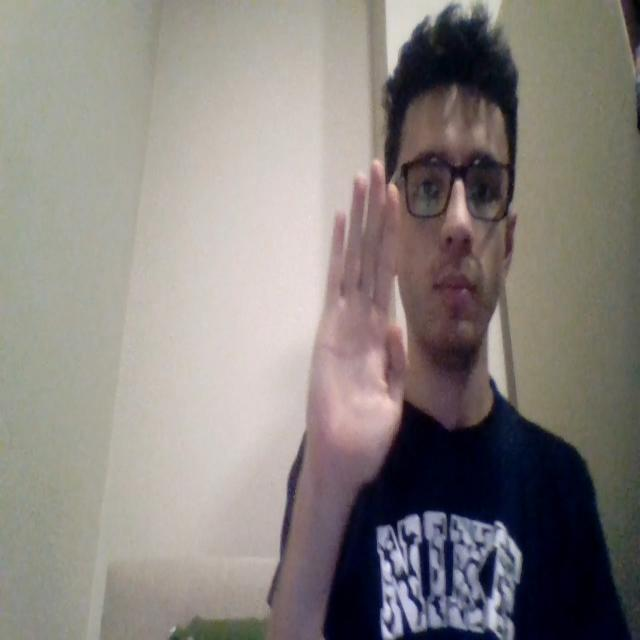hello: (303, 157, 407, 496)
